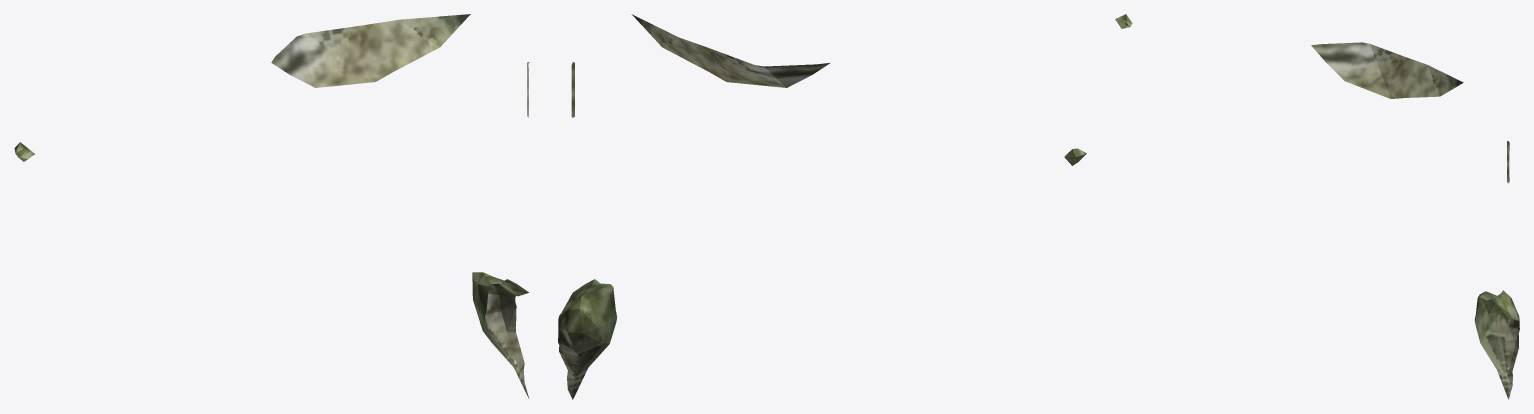
3 renders of one model, left to right at view 1: azimuth 30°, elevation 25°; view 2: azimuth 150°, elevation 25°; view 3: azimuth 330°, elevation 25°, orthographic. The views are drawn at different scales.
Size of the model in its own units: 2.6 by 1.93 by 0.2348.
1 material, 1 textured.
